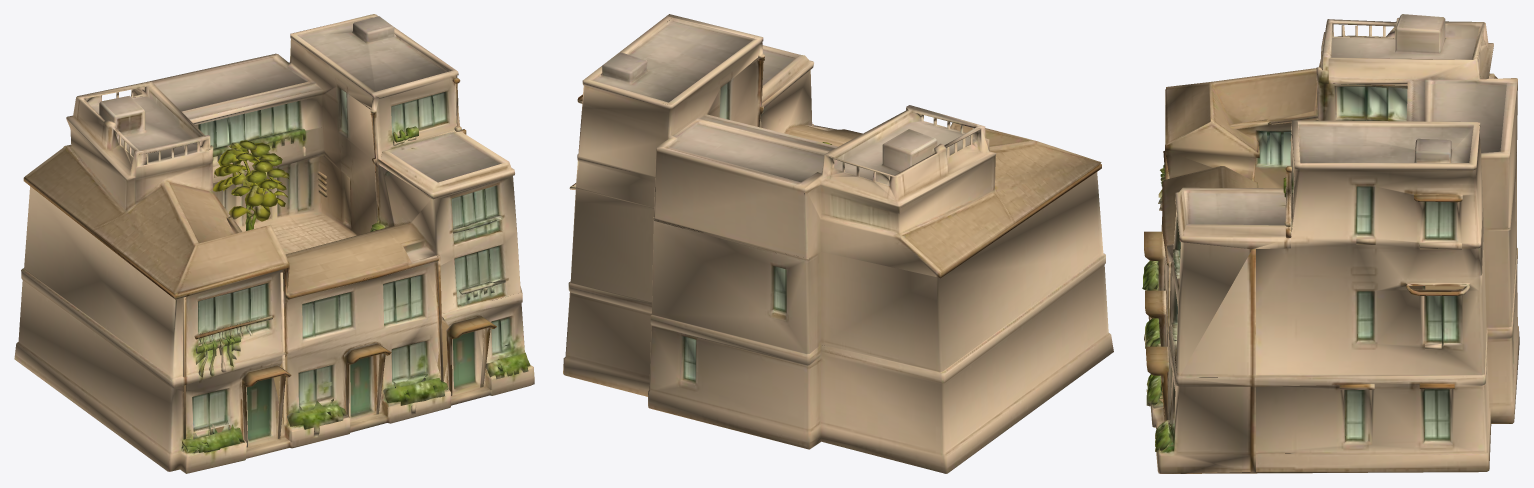
File: townhouses.glb
3 views of the same model, side by side, from view 1: azimuth 30°, elevation 25°; view 2: azimuth 150°, elevation 25°; view 3: azimuth 270°, elevation 25° (orthographic). The views are drawn at different scales.
Visible parts, largest first — view 1: tripo_node_b53895cc-9060-4ea7-8710-ad2addbc653a; view 2: tripo_node_b53895cc-9060-4ea7-8710-ad2addbc653a; view 3: tripo_node_b53895cc-9060-4ea7-8710-ad2addbc653a.
Boxes of the visible parts, left/top/right/bottom form: tripo_node_b53895cc-9060-4ea7-8710-ad2addbc653a: left=14, top=14, right=534, bottom=473; tripo_node_b53895cc-9060-4ea7-8710-ad2addbc653a: left=563, top=14, right=1113, bottom=473; tripo_node_b53895cc-9060-4ea7-8710-ad2addbc653a: left=1142, top=14, right=1519, bottom=473.
Size of the model in its own units: 32 by 23.36 by 25.74.
Materials: 1 (1 with a texture image).
